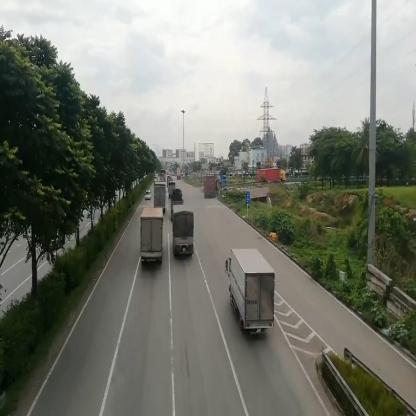car: (146, 193, 152, 202)
container: (203, 177, 221, 200), (260, 170, 288, 183)
truck: (227, 250, 275, 333), (139, 209, 164, 263), (173, 208, 195, 256), (155, 185, 166, 210)
